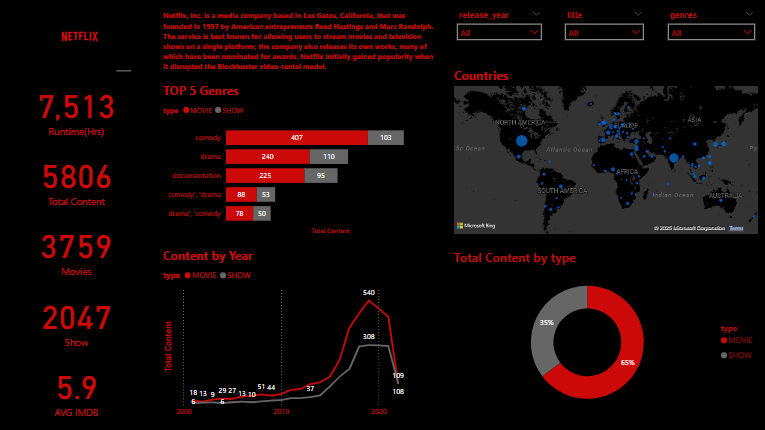

Layout of this report page (visuals, bound fields, positions):
{"tool":"powerbi","page":{"name":"Page 1","canvas":[1280,720],"ordinal":0},"visuals":[{"type":"card","fields":{"Values":["credits.runtime(Hrs)"]},"box":[0,124.3,257,110.9],"z":0},{"type":"card","fields":{"Values":["All Measures.Total Content"]},"box":[0,246.9,257,100.8],"z":1000},{"type":"card","fields":{"Values":["All Measures.Movies"]},"box":[0,359.5,257,109.2],"z":2000},{"type":"card","fields":{"Values":["credits.Show"]},"box":[0,480.4,257,104.1],"z":3000},{"type":"card","fields":{"Values":["credits.AVG IMDB"]},"box":[0,598,257,100.8],"z":4000},{"type":"barChart","title":"TOP 5 Genres","fields":{"Category":["titles.genres"],"Y":["All Measures.Total Content"],"Series":["titles.type"]},"box":[268.8,136.1,463.6,258.7],"z":5000},{"type":"lineChart","title":"Content by Year","fields":{"Category":["titles.release_year"],"Y":["All Measures.Total Content"],"Series":["titles.type"]},"box":[268.8,411.5,463.6,292.3],"z":6000},{"type":"map","title":"Countries","fields":{"Category":["titles.production_countries"],"Size":["All Measures.Runtime(Hrs)"]},"box":[752.5,110.9,517.4,283.9],"z":7000},{"type":"donutChart","fields":{"Category":["titles.type"],"Y":["All Measures.Total Content"]},"box":[752.5,414.9,517.4,283.9],"z":8000},{"type":"image","box":[0,0,268.8,124.3],"z":9000},{"type":"slicer","fields":{"Values":["titles.release_year"]},"box":[752.5,11.8,161.3,95.7],"z":10000},{"type":"slicer","fields":{"Values":["titles.title"]},"box":[934,11.8,151.2,95.7],"z":11000},{"type":"slicer","fields":{"Values":["titles.genres"]},"box":[1105.3,11.8,164.6,95.7],"z":12000},{"type":"textbox","box":[268.8,11.8,463.6,112.5],"z":13000}]}

Visuals, with their boxes in screenshot pixels (x1, y1, x2, y2), scaled from the page's 1280x720 canvas onto the 765x430 screenshot:
card - credits.runtime(Hrs): [left=0, top=74, right=154, bottom=140]
card - All Measures.Total Content: [left=0, top=147, right=154, bottom=208]
card - All Measures.Movies: [left=0, top=215, right=154, bottom=280]
card - credits.Show: [left=0, top=287, right=154, bottom=349]
card - credits.AVG IMDB: [left=0, top=357, right=154, bottom=417]
"TOP 5 Genres" barChart: [left=161, top=81, right=438, bottom=236]
"Content by Year" lineChart: [left=161, top=246, right=438, bottom=420]
"Countries" map: [left=450, top=66, right=759, bottom=236]
donutChart - titles.type x All Measures.Total Content: [left=450, top=248, right=759, bottom=417]
image: [left=0, top=0, right=161, bottom=74]
slicer - titles.release_year: [left=450, top=7, right=546, bottom=64]
slicer - titles.title: [left=558, top=7, right=649, bottom=64]
slicer - titles.genres: [left=661, top=7, right=759, bottom=64]
textbox: [left=161, top=7, right=438, bottom=74]
